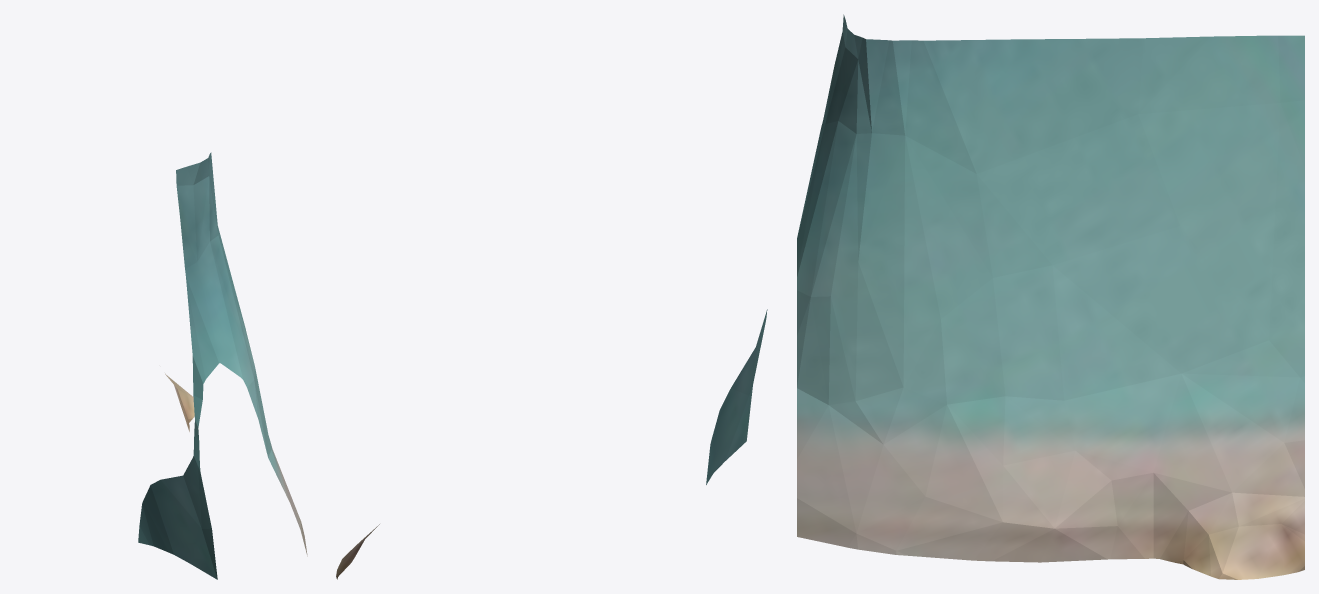
3 views of the same model, side by side, from view 1: azimuth 30°, elevation 25°; view 2: azimuth 150°, elevation 25°; view 3: azimuth 270°, elevation 25° (orthographic). The views are drawn at different scales.
Bounding box in the file's own units: 21.1 × 42.87 × 42.87.
Materials: 1 (1 with a texture image).
